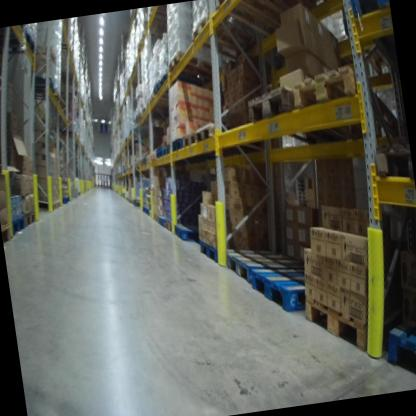pallet: (287, 55, 405, 166), (243, 75, 355, 156), (299, 280, 386, 364), (223, 237, 318, 293), (186, 6, 257, 69), (214, 0, 303, 47), (249, 258, 314, 319), (380, 300, 416, 387), (164, 46, 225, 88), (194, 118, 232, 155), (263, 0, 333, 20), (196, 234, 232, 271), (159, 68, 202, 96), (0, 28, 39, 57), (172, 220, 203, 243), (30, 83, 62, 105), (26, 72, 57, 94), (34, 194, 63, 214), (8, 213, 28, 239), (150, 76, 173, 98), (21, 206, 41, 231), (181, 132, 204, 149), (169, 136, 185, 156), (0, 220, 14, 242), (161, 143, 174, 160), (164, 218, 175, 233), (156, 147, 165, 159)
